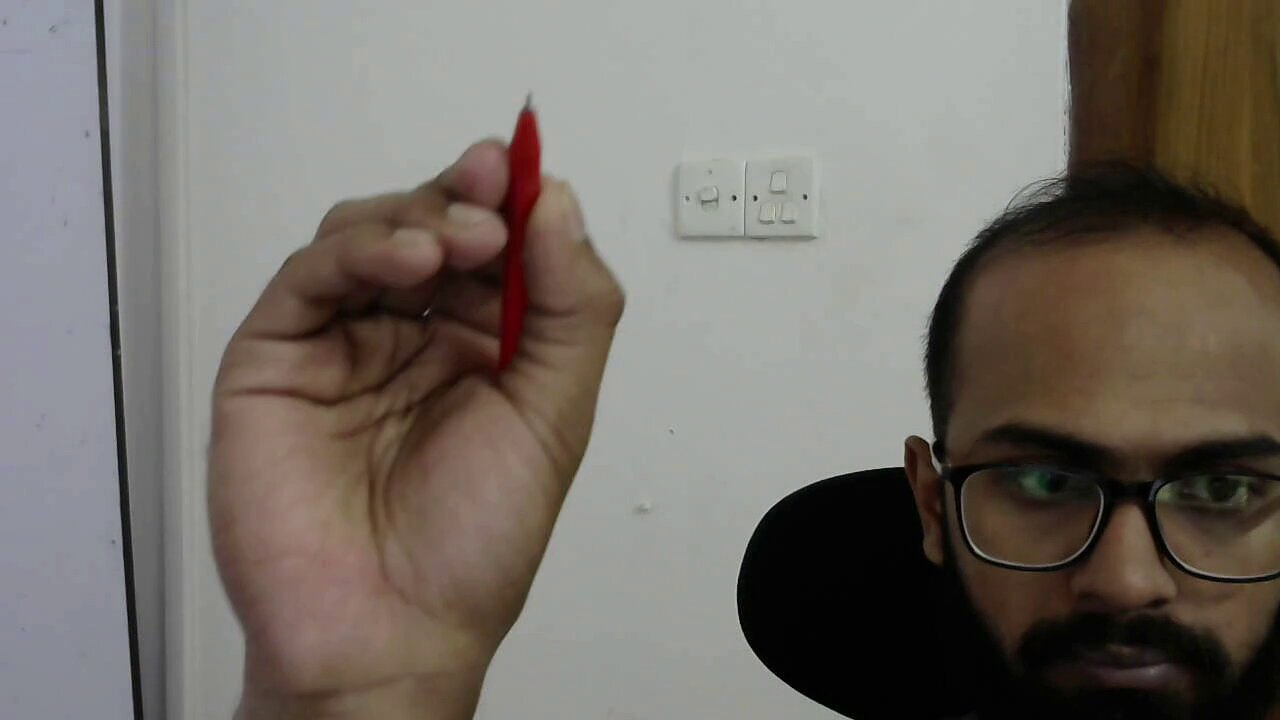pointer: (224, 139, 628, 521)
